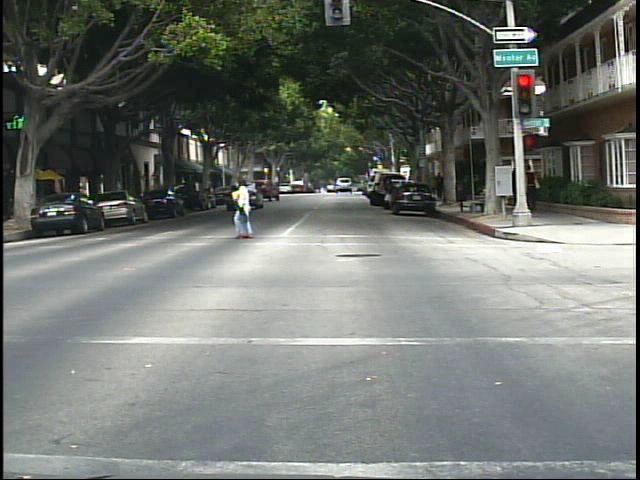person: (225, 174, 262, 242), (524, 156, 549, 217), (377, 172, 400, 215), (434, 169, 447, 200)
